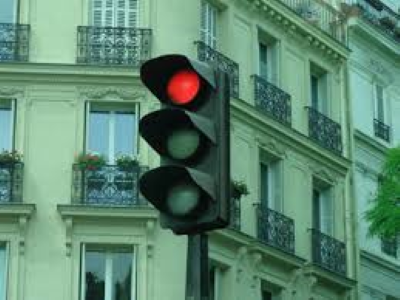trafficlight_red: (138, 52, 216, 230)
